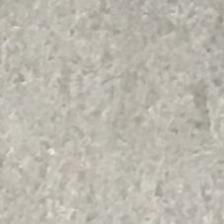Non_Crack: (28, 30, 222, 194)
